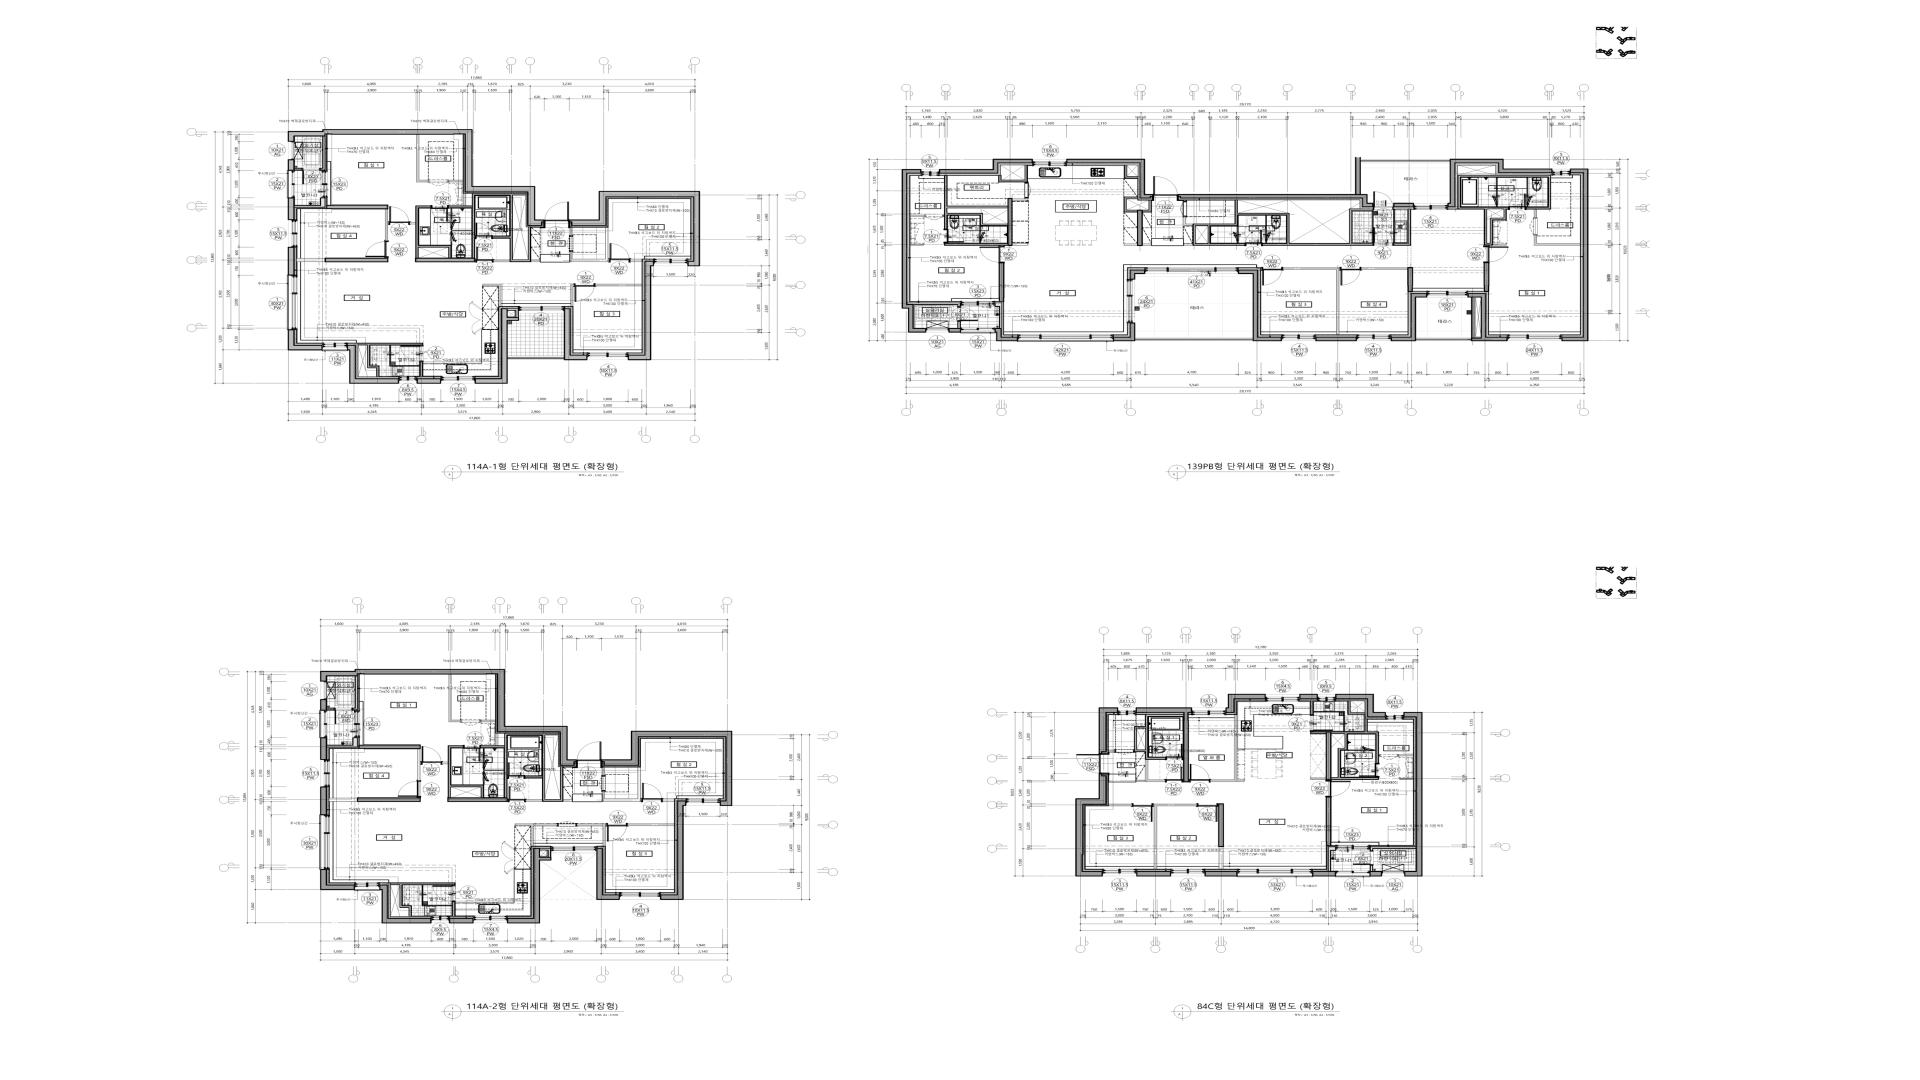door: (543, 203, 570, 228), (576, 741, 601, 767), (1076, 754, 1109, 774), (1153, 177, 1178, 200), (1325, 779, 1352, 798), (1484, 245, 1509, 264), (980, 245, 1005, 264), (1261, 266, 1283, 286), (608, 243, 630, 262), (1340, 266, 1361, 286), (1373, 227, 1394, 247), (605, 823, 628, 841), (1188, 764, 1211, 782), (400, 345, 423, 363), (1373, 191, 1394, 210), (574, 284, 595, 302), (388, 207, 409, 225), (1197, 803, 1218, 822), (421, 746, 442, 765), (641, 783, 662, 802), (1133, 803, 1154, 822), (433, 885, 455, 902), (398, 781, 421, 798), (365, 241, 389, 257), (1309, 715, 1333, 731), (463, 745, 481, 762), (475, 223, 493, 240), (302, 167, 320, 185), (957, 307, 978, 322), (1353, 851, 1374, 865), (1245, 229, 1262, 247), (508, 762, 525, 779), (1166, 766, 1183, 783), (1166, 744, 1183, 761), (475, 247, 493, 262), (508, 786, 526, 802), (943, 229, 964, 243), (1509, 194, 1526, 210), (335, 708, 352, 724), (431, 206, 448, 222), (1360, 764, 1379, 777), (1530, 218, 1538, 235), (429, 179, 448, 186), (1025, 182, 1031, 199), (460, 720, 481, 725), (1379, 754, 1399, 760), (1114, 749, 1134, 754), (924, 215, 944, 220), (558, 822, 576, 827)
wall: (320, 669, 576, 766), (287, 129, 543, 225), (570, 191, 700, 266), (601, 731, 732, 806), (1178, 157, 1373, 207), (1184, 199, 1373, 245), (1458, 175, 1551, 245), (448, 194, 539, 262), (481, 733, 572, 802), (1448, 158, 1552, 207), (1561, 169, 1589, 342), (1135, 707, 1192, 782), (902, 169, 926, 332), (1283, 268, 1340, 335), (1067, 158, 1153, 199), (944, 175, 1007, 229), (506, 848, 551, 923), (475, 309, 520, 384), (1134, 715, 1183, 782), (1403, 712, 1423, 877), (1075, 774, 1106, 877), (1238, 269, 1282, 342), (1332, 719, 1379, 779), (1154, 804, 1197, 869), (659, 800, 686, 901), (628, 261, 654, 360), (1211, 715, 1245, 782), (409, 206, 452, 257), (442, 745, 484, 798), (359, 343, 423, 377), (390, 882, 455, 916), (347, 345, 400, 384), (380, 885, 431, 923), (1468, 293, 1507, 342), (1391, 293, 1427, 342), (939, 158, 1033, 174), (570, 228, 608, 262), (603, 767, 641, 802), (596, 848, 620, 901), (564, 309, 588, 360), (1336, 694, 1386, 717), (514, 824, 558, 847), (1098, 707, 1118, 754), (1225, 694, 1266, 713), (320, 869, 355, 890), (287, 330, 322, 351), (576, 824, 605, 847), (1394, 208, 1411, 245), (448, 674, 460, 723), (417, 135, 429, 182), (998, 165, 1027, 182), (1534, 235, 1580, 245), (483, 284, 501, 306), (1113, 323, 1135, 342), (1361, 160, 1449, 164), (326, 204, 388, 210), (327, 737, 357, 748), (1325, 798, 1332, 845), (1325, 732, 1332, 779), (415, 257, 475, 262), (1135, 338, 1253, 340), (996, 328, 1018, 342), (294, 198, 324, 207), (1007, 198, 1013, 247), (998, 264, 1005, 302), (357, 798, 421, 802), (324, 258, 388, 262), (359, 745, 421, 749), (1137, 210, 1143, 247), (447, 798, 508, 802), (1218, 803, 1224, 847), (1124, 196, 1138, 212), (1348, 702, 1365, 715), (508, 356, 563, 360), (1416, 338, 1472, 342), (1316, 336, 1357, 342), (907, 303, 961, 307), (1328, 847, 1336, 872), (994, 303, 1002, 328), (320, 786, 327, 815), (287, 247, 294, 276), (1125, 165, 1138, 179), (1484, 264, 1490, 293), (1370, 847, 1416, 851), (352, 676, 357, 711), (1137, 872, 1171, 877), (1205, 872, 1238, 877), (320, 137, 326, 170), (944, 243, 1007, 245), (1130, 269, 1146, 280), (1407, 268, 1414, 293), (320, 737, 327, 760), (287, 198, 294, 220), (448, 918, 473, 923), (417, 378, 442, 384), (595, 284, 642, 286), (1312, 872, 1336, 877), (1361, 268, 1407, 270), (1218, 847, 1224, 869), (328, 798, 357, 802), (297, 258, 324, 262), (1143, 200, 1153, 212), (1472, 298, 1474, 338), (508, 309, 518, 318), (541, 848, 551, 857), (1299, 694, 1317, 699), (418, 749, 421, 781), (385, 210, 388, 241), (320, 699, 327, 711), (287, 160, 294, 171), (1394, 203, 1414, 207), (451, 902, 456, 916), (1370, 872, 1382, 877), (628, 824, 674, 825), (571, 284, 574, 306), (419, 363, 423, 377), (948, 328, 961, 332), (630, 258, 642, 262), (481, 720, 496, 723), (1311, 700, 1313, 715), (1311, 732, 1325, 735), (496, 733, 498, 745), (662, 799, 674, 802), (1109, 804, 1133, 806), (295, 167, 302, 171), (957, 322, 961, 328), (1109, 749, 1114, 753), (603, 767, 605, 775), (570, 228, 572, 236), (1013, 199, 1029, 200), (1013, 244, 1029, 245), (1399, 754, 1414, 756), (1311, 778, 1325, 779), (1399, 778, 1414, 779), (448, 181, 463, 182), (910, 215, 924, 216), (1370, 865, 1373, 872), (327, 708, 334, 711), (1124, 244, 1137, 245), (910, 244, 923, 245), (1143, 244, 1151, 245)
window: (286, 276, 298, 330), (1018, 335, 1113, 342), (1146, 268, 1238, 274), (1238, 869, 1312, 877), (319, 815, 330, 869), (1126, 280, 1135, 323), (518, 306, 564, 314), (1507, 335, 1561, 342), (587, 352, 628, 360), (620, 891, 659, 899), (551, 847, 596, 853), (686, 798, 720, 806), (1427, 290, 1468, 297), (442, 376, 475, 384), (473, 915, 506, 923), (1192, 708, 1225, 716), (654, 258, 687, 266), (286, 171, 295, 198), (320, 760, 330, 786), (289, 220, 298, 247), (355, 882, 380, 891), (1033, 160, 1067, 166), (1102, 869, 1137, 876), (1336, 870, 1370, 877), (1414, 203, 1448, 210), (1357, 335, 1391, 342), (1282, 335, 1316, 342), (961, 301, 994, 307), (1171, 869, 1204, 876), (1266, 695, 1299, 702), (319, 711, 327, 737), (352, 711, 360, 737), (323, 343, 347, 351), (961, 328, 996, 334), (320, 171, 327, 198), (400, 376, 417, 384), (431, 915, 448, 923), (1118, 708, 1135, 716), (1336, 845, 1370, 849), (1317, 695, 1336, 702), (1552, 169, 1571, 175), (1382, 870, 1404, 876), (922, 170, 939, 177), (320, 682, 327, 699), (289, 142, 294, 160), (1386, 715, 1403, 720), (926, 328, 948, 332)
